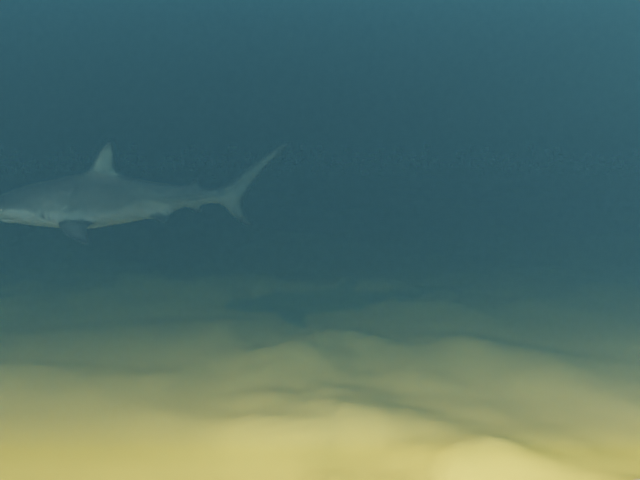Carribean Shark.001: (0, 141, 288, 244)
